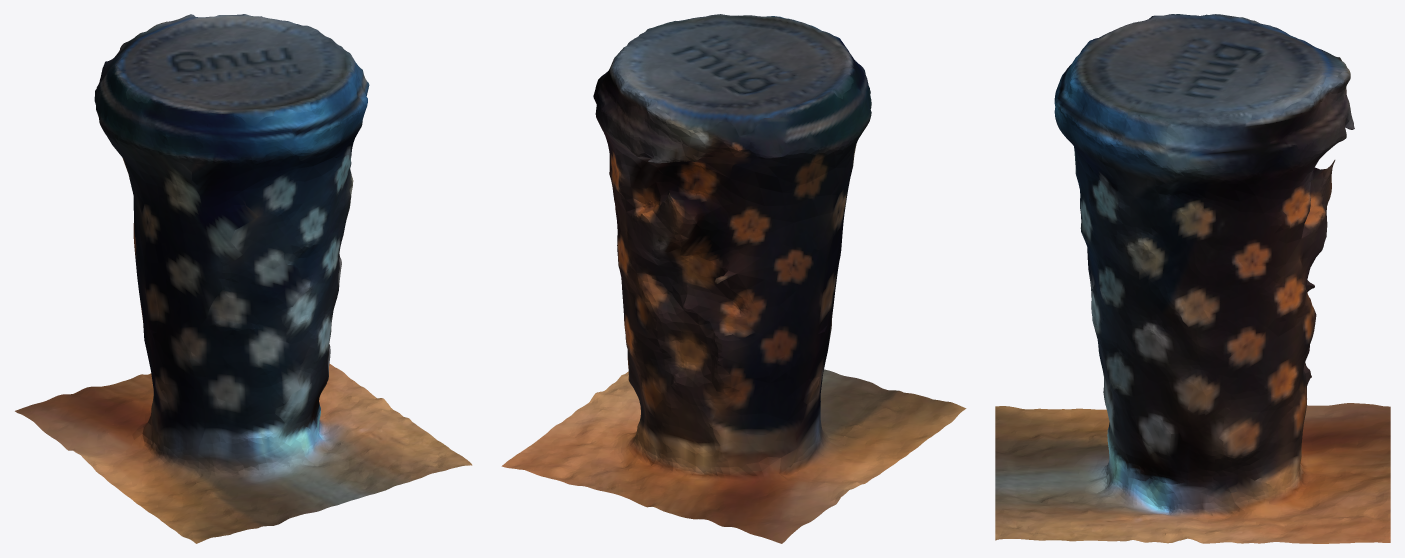
File: tumbler.glb
3 views of the same model, side by side, from view 1: azimuth 30°, elevation 25°; view 2: azimuth 150°, elevation 25°; view 3: azimuth 270°, elevation 25° (orthographic). The views are drawn at different scales.
Visible parts, largest first — view 1: mesh; view 2: mesh; view 3: mesh.
Part boxes in pixels (x1,y1,x2,y2): mesh: (15, 14, 472, 543); mesh: (501, 14, 966, 543); mesh: (995, 14, 1390, 543).
Size of the model in its own units: 0.1116 by 0.1486 by 0.1273.
1 material, 1 textured.
